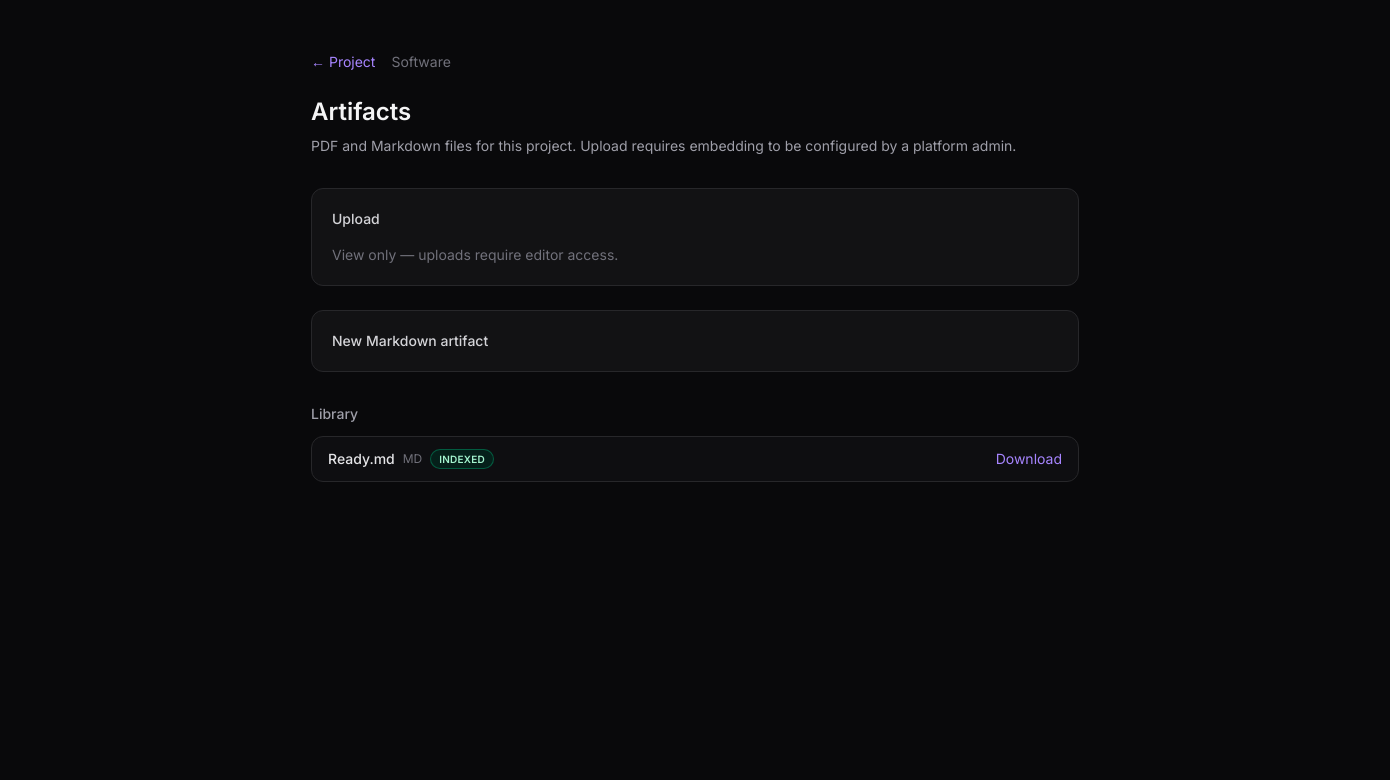
ArtifactsPage › studio viewer drawer hides chunk preview section
Expected: the text "Ready.md" is shown, left=328, top=449, right=395, bottom=469
Step 1. Click the button "Ready.md md Indexed Download" → (361, 459), box left=328, top=449, right=1062, bottom=469
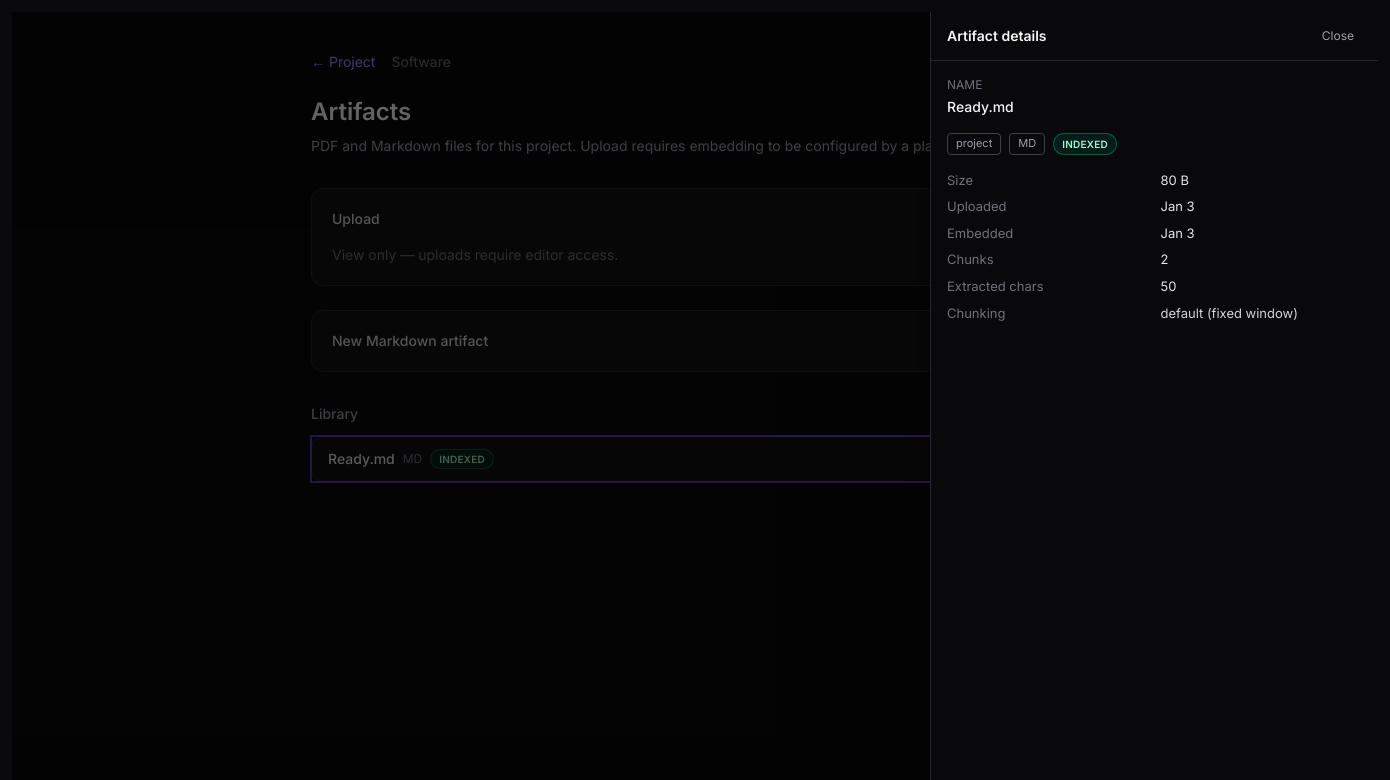
Result: the heading "Artifact details" is shown at left=947, top=26, right=1046, bottom=46
